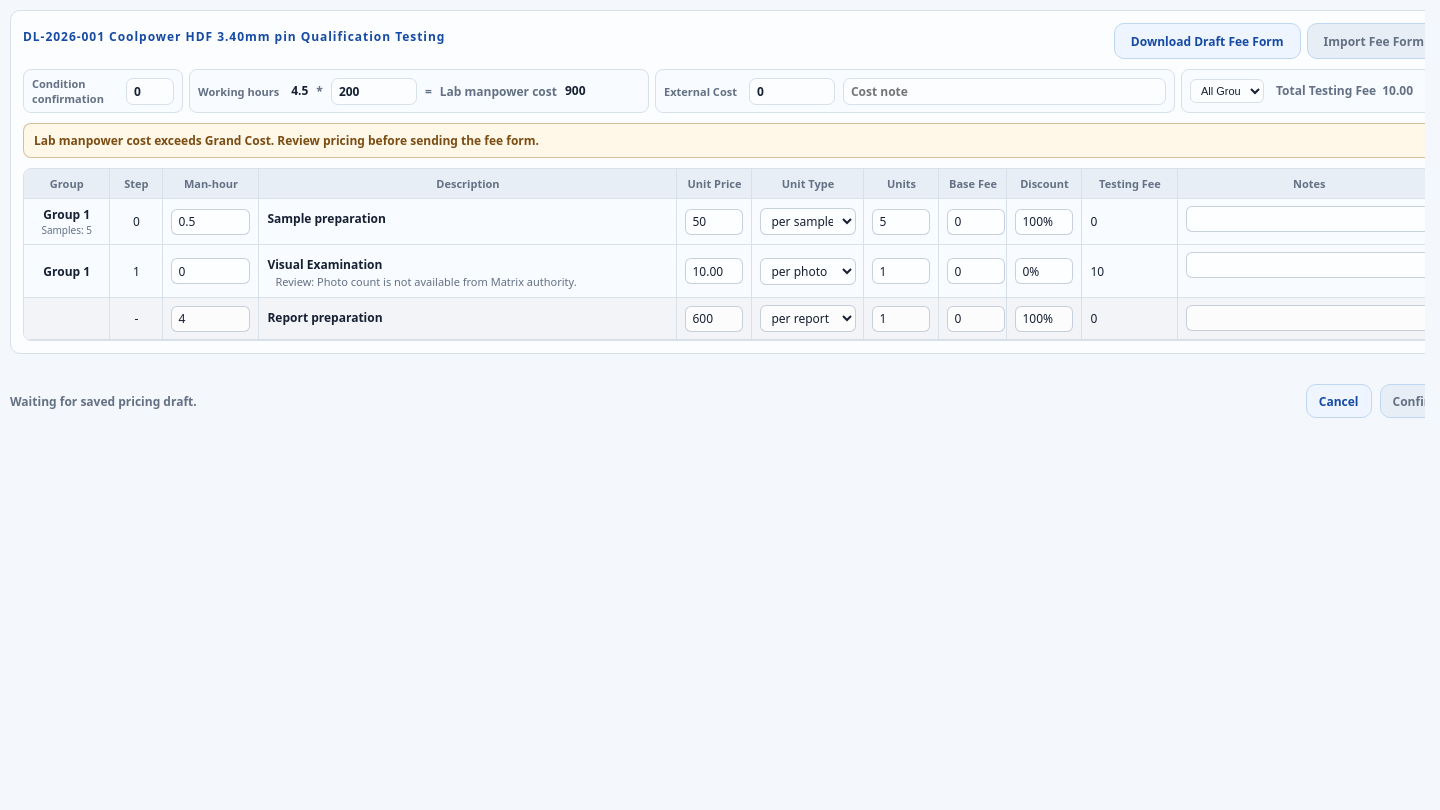
Test: FeeEvaluationReviewExportPage › cancels a Fee Form preview without generating a file
Click the button "Download Draft Fee Form" at (1207, 41), box [1114,23,1301,59]
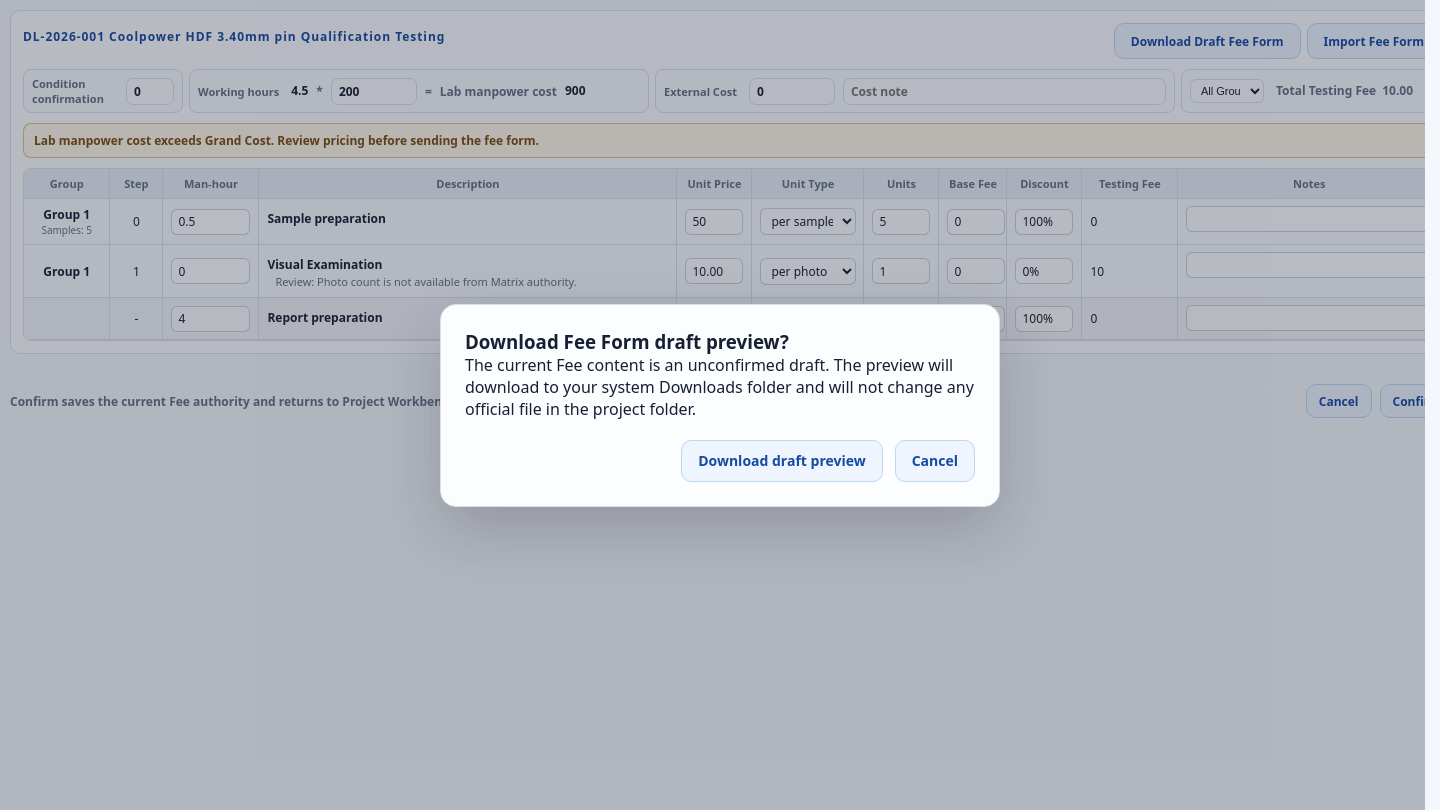
Click the button "Cancel" at (935, 460), box [895,440,975,482]
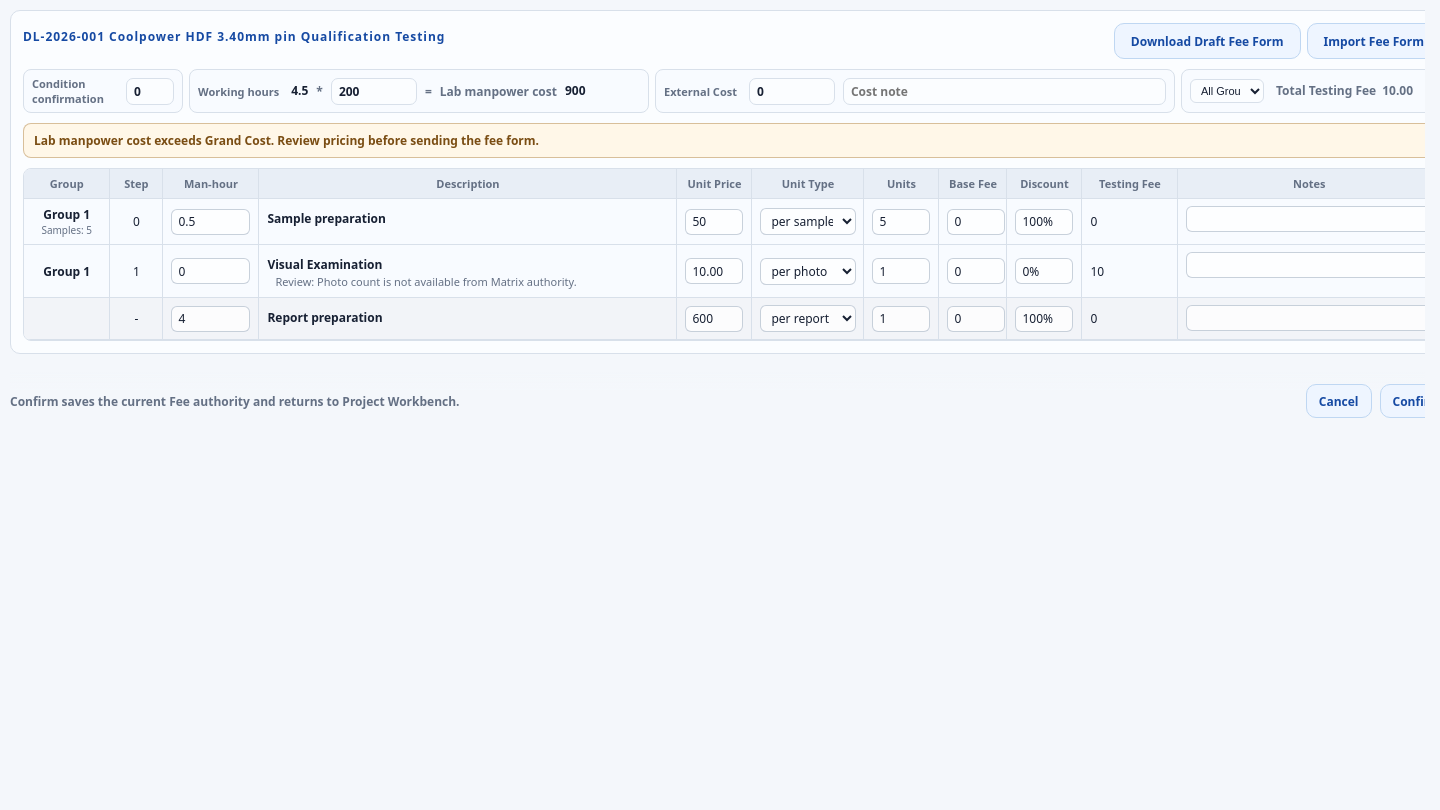
Now the dialog is gone
